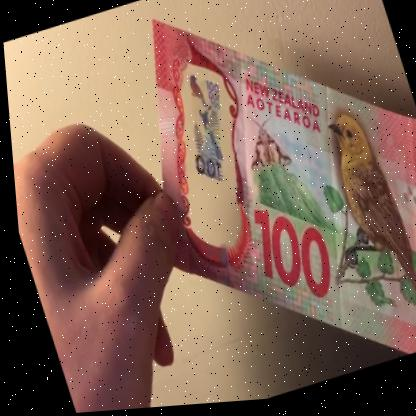100B: (161, 68, 252, 216)
